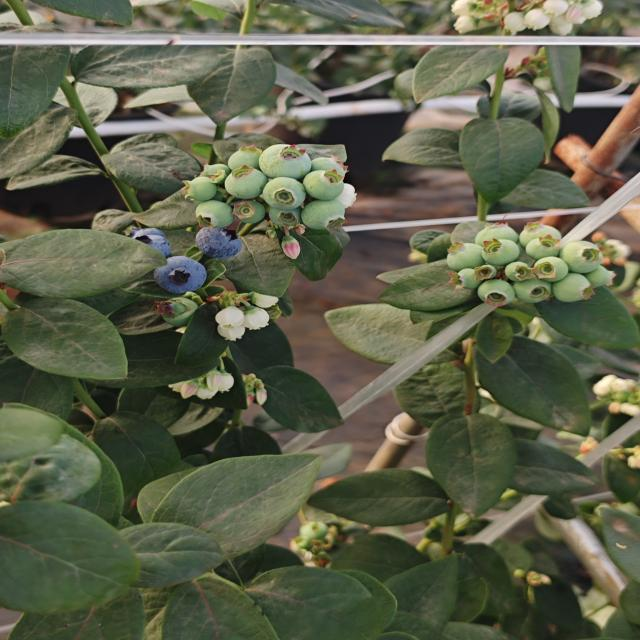ripe: (186, 221, 258, 263), (147, 255, 213, 294), (126, 223, 179, 258)
